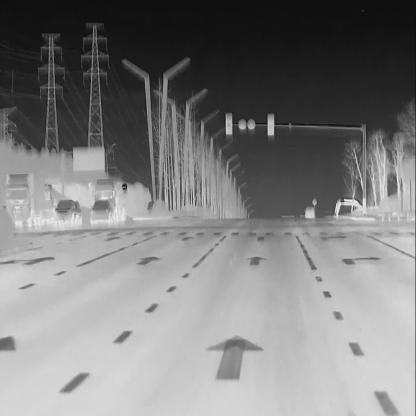car: (51, 198, 81, 225), (89, 199, 115, 224), (302, 202, 316, 222)
truck: (3, 166, 35, 228), (92, 176, 126, 223)
